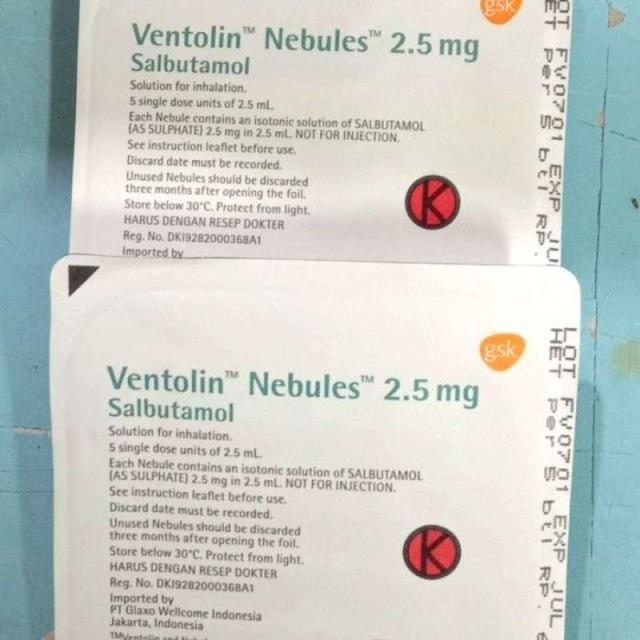drug-name: (128, 14, 245, 51)
